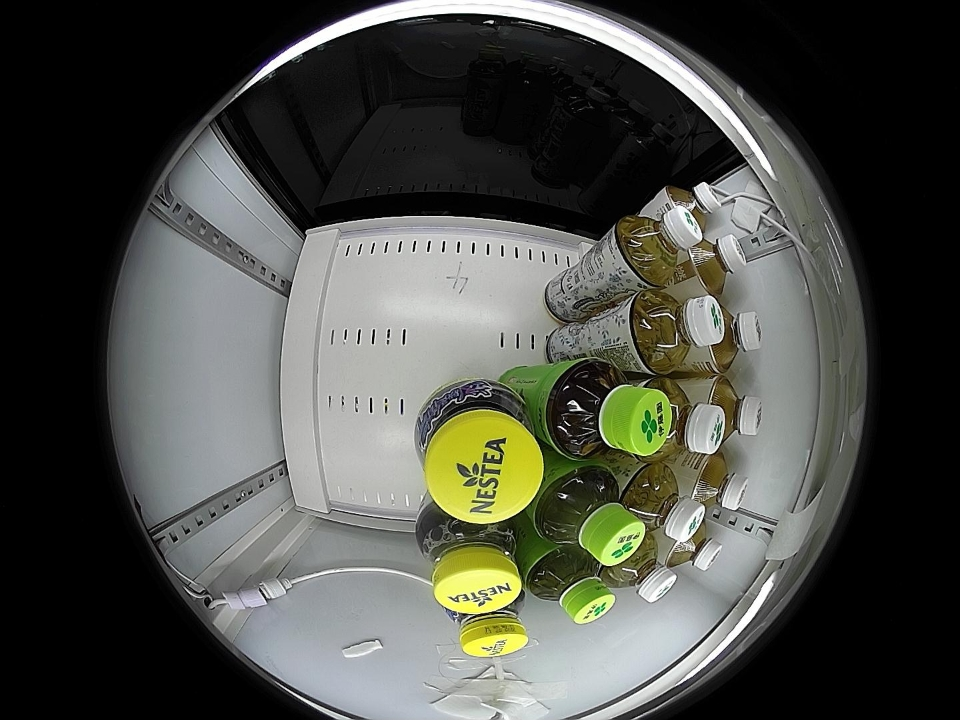baicha: (628, 289, 726, 375), (616, 202, 703, 286), (643, 378, 726, 459), (622, 463, 705, 543), (605, 536, 676, 603)
chacui: (415, 382, 544, 524), (416, 508, 522, 612), (442, 596, 529, 658)
rancha-2: (702, 375, 764, 447), (704, 303, 763, 374), (684, 234, 749, 295), (688, 452, 749, 512), (664, 518, 723, 572), (664, 181, 723, 233)
yitengyuan: (546, 358, 671, 461), (536, 464, 644, 566), (526, 547, 614, 625)
